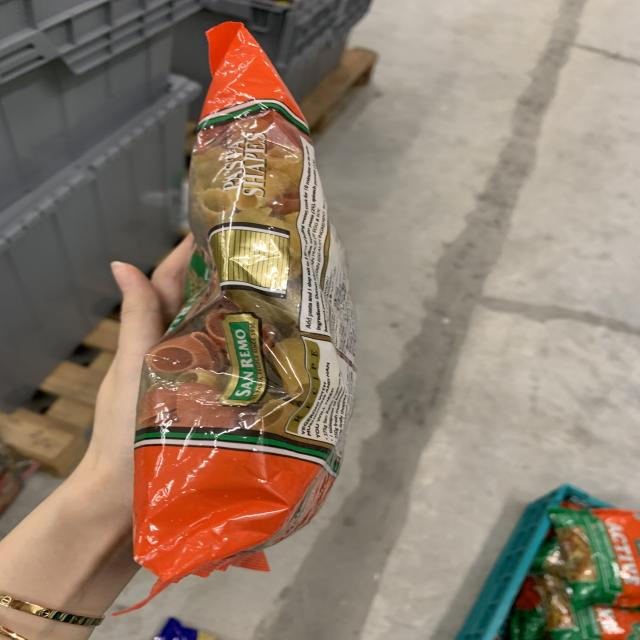object_name: (146, 46, 346, 548)
